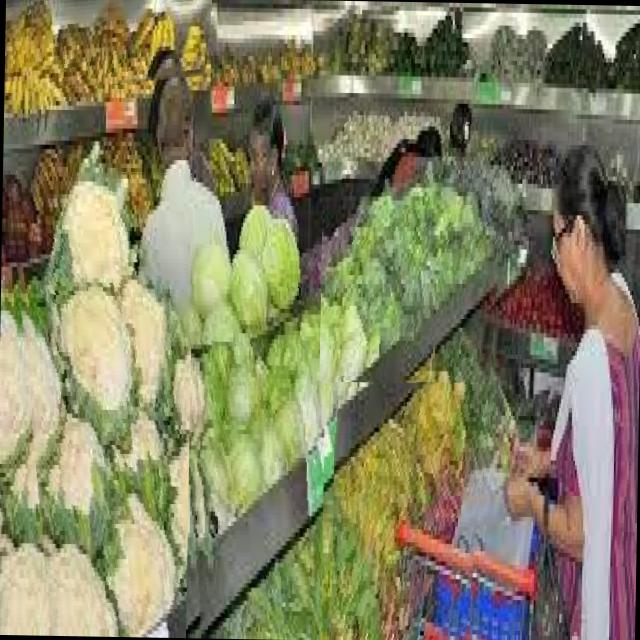Organic: (0, 168, 193, 637), (180, 235, 328, 640), (319, 116, 510, 387), (330, 381, 491, 640), (4, 0, 214, 97)
